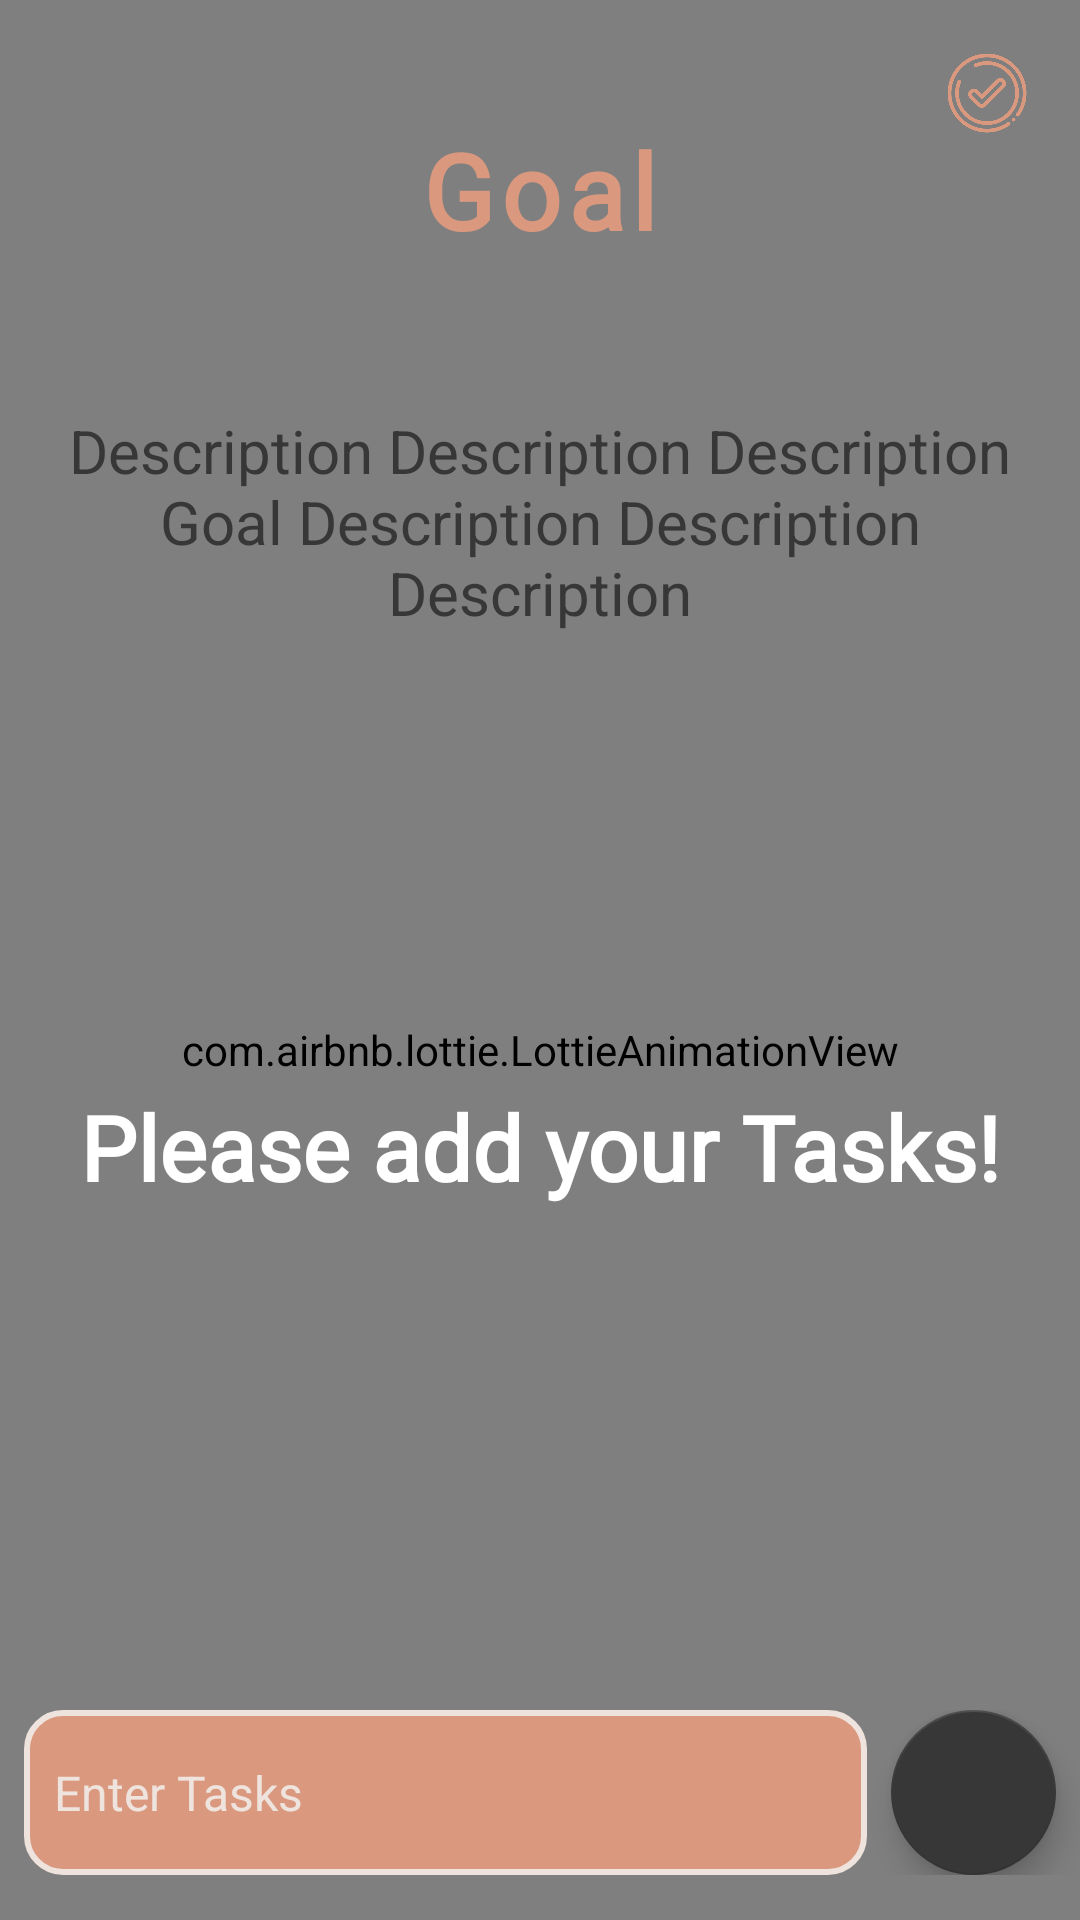

Where icons sit on this 1080 x 1920 app screen, as region(x1, y1, x2, y2):
check: region(948, 54, 1027, 133)
